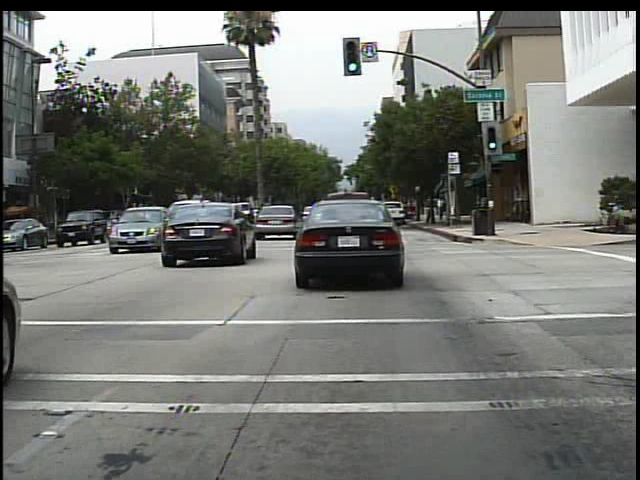person: (430, 192, 450, 226)
